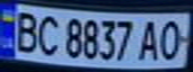3: (100, 17, 118, 61)
7: (115, 17, 139, 62)
8: (60, 15, 84, 60), (78, 16, 100, 61)
A: (136, 17, 163, 62)
B: (9, 8, 42, 54)
C: (33, 12, 63, 56)
O: (154, 17, 187, 61)
